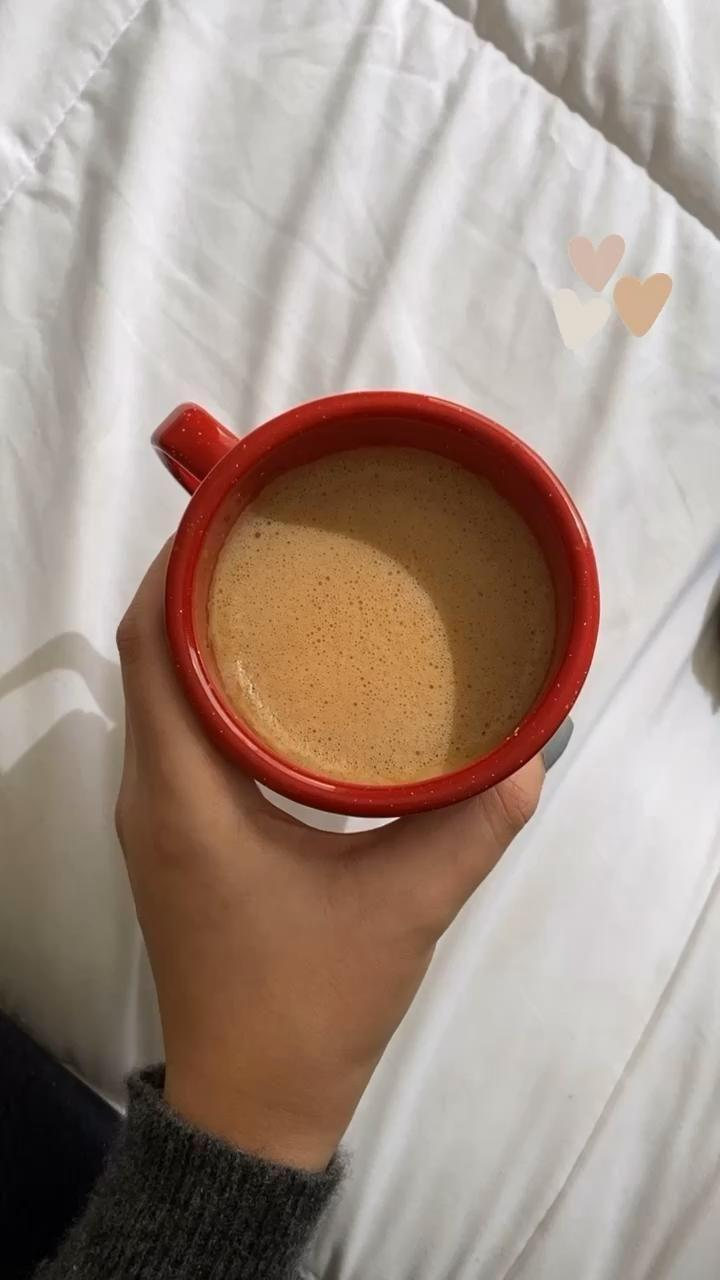cup-handle: (151, 386, 605, 822)
